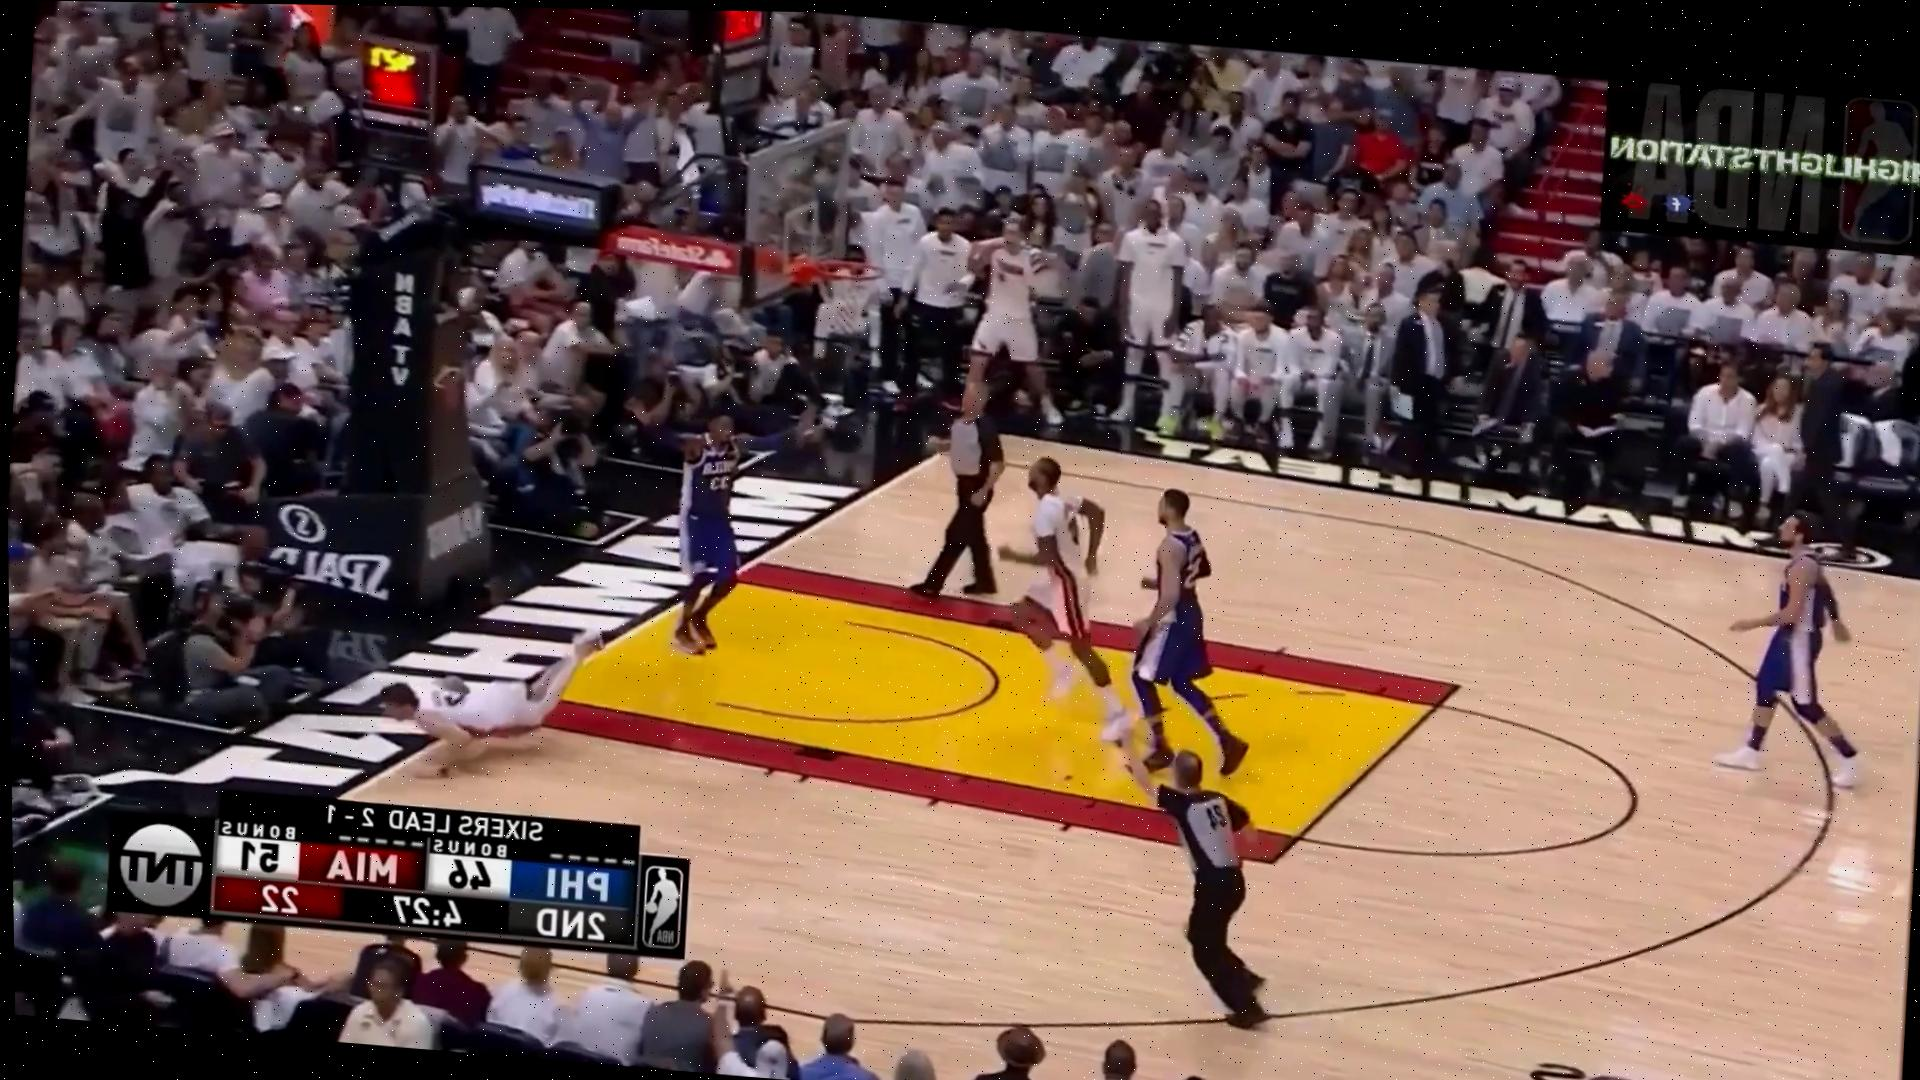no_foul: (980, 452, 1267, 773)
